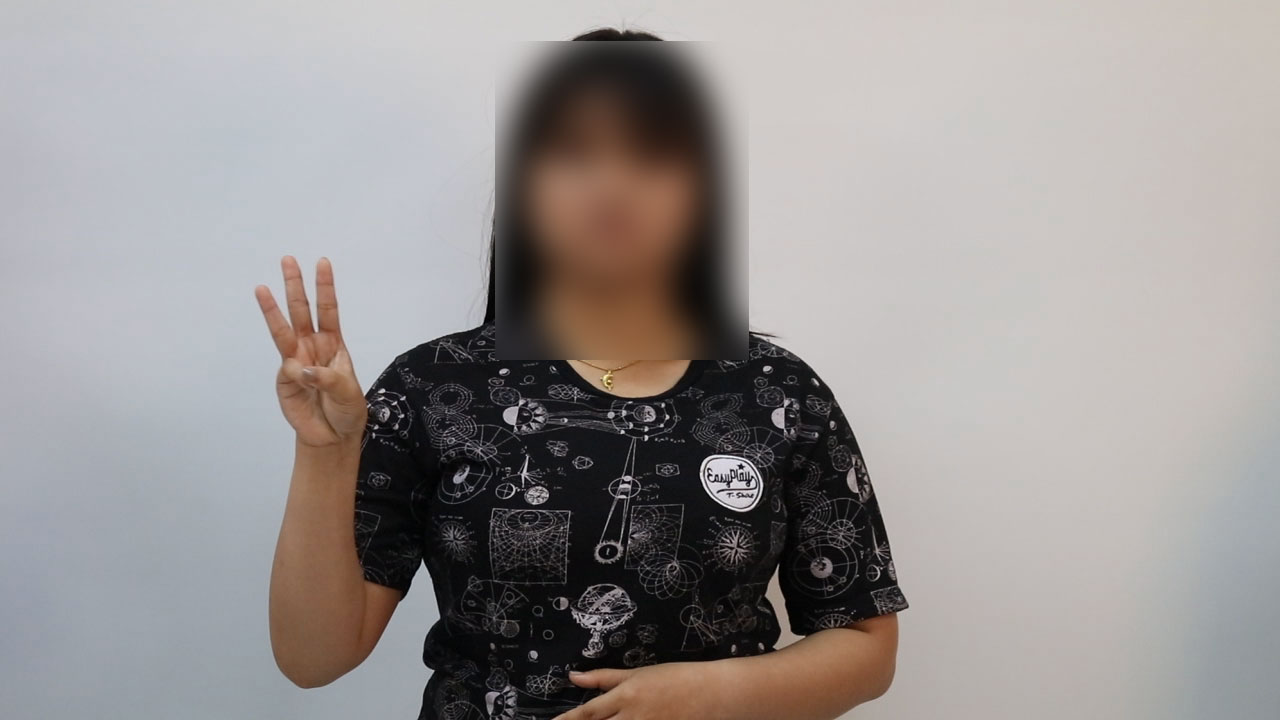wor: (243, 247, 374, 468)
